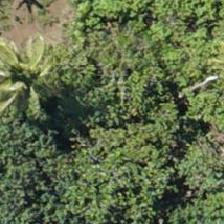coconut_tree: (0, 32, 74, 122)
